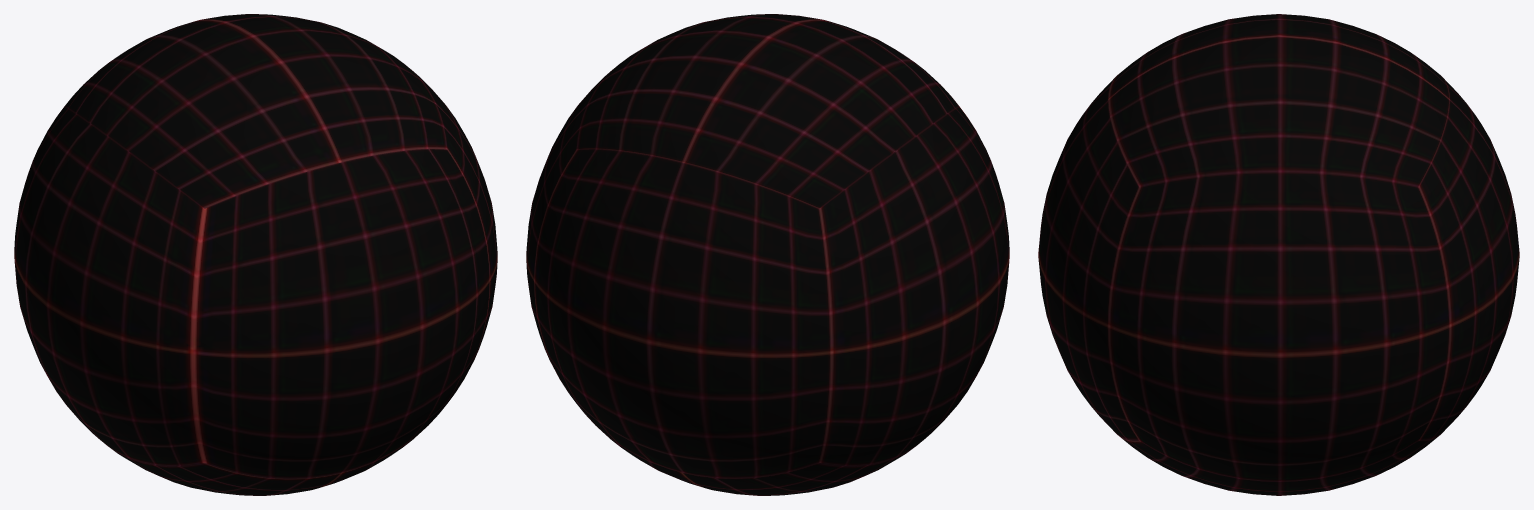
The picture shows the model from 3 angles, left to right: view 1: azimuth 30°, elevation 25°; view 2: azimuth 150°, elevation 25°; view 3: azimuth 270°, elevation 25°; orthographic projection.
Parts seen in each view (by area): view 1: SM_MagicalMending_Sphere_LOD0; view 2: SM_MagicalMending_Sphere_LOD0; view 3: SM_MagicalMending_Sphere_LOD0.
Boxes of the visible parts, x1,y1,x2,y2 form: SM_MagicalMending_Sphere_LOD0: (14, 14, 497, 495); SM_MagicalMending_Sphere_LOD0: (526, 14, 1009, 495); SM_MagicalMending_Sphere_LOD0: (1038, 14, 1519, 495).
Size of the model in its own units: 0.9905 by 0.9905 by 0.9905.
Materials: 1 (1 with a texture image).
